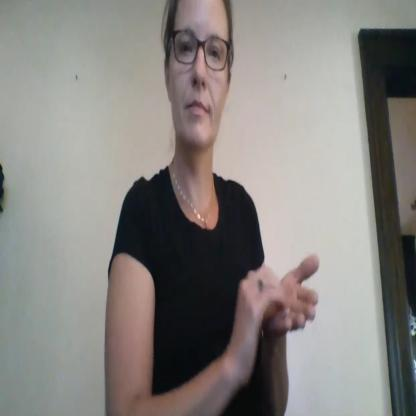ExcuseMe: (218, 230, 337, 376)
